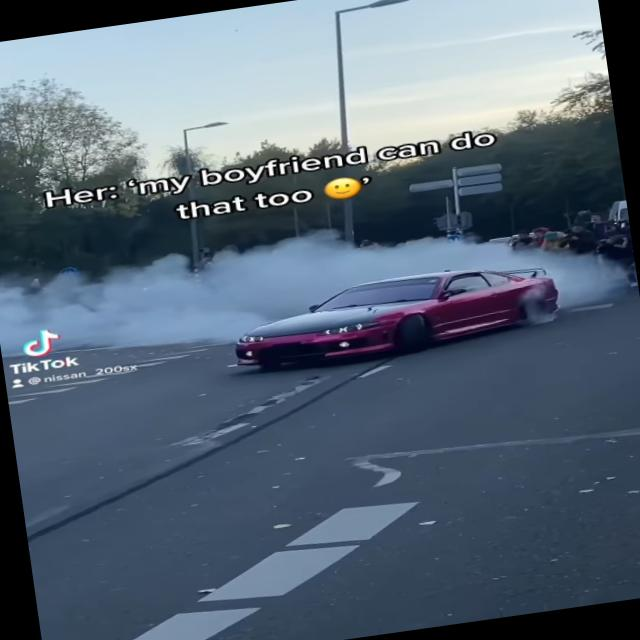car: (223, 252, 573, 380)
